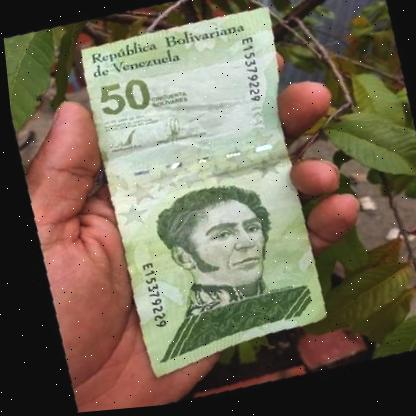fifty-front-vef: (53, 0, 356, 384)
